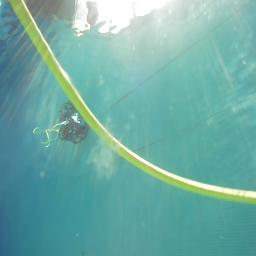front: (58, 117, 88, 144)
